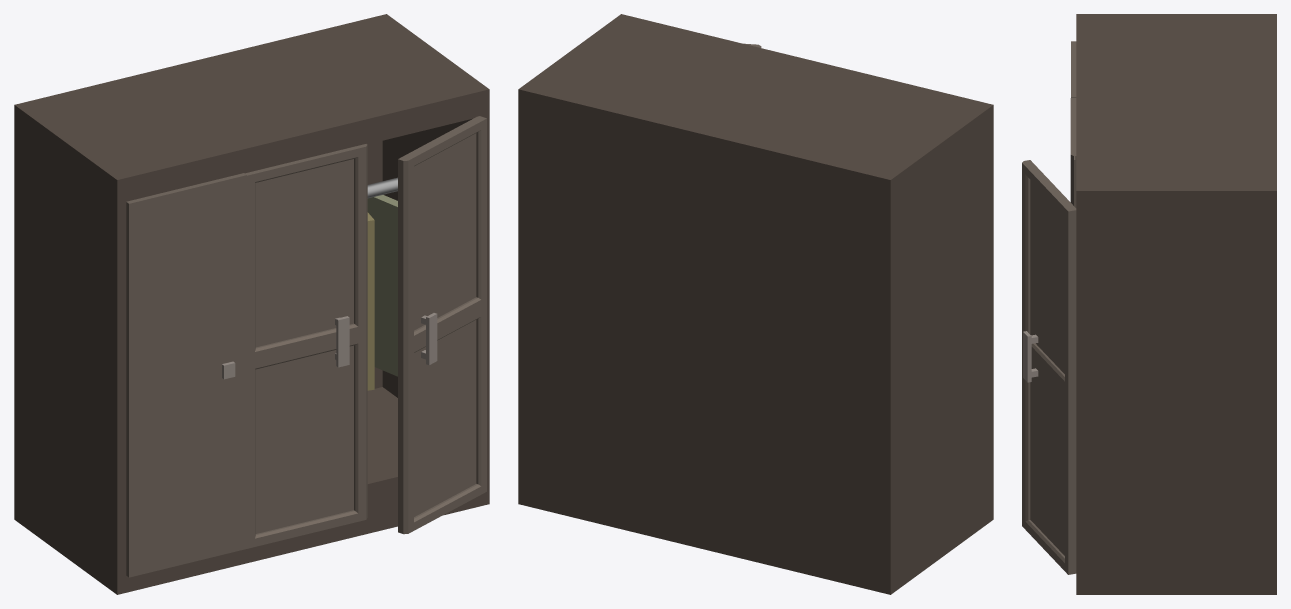
The model's file is cupboard2.fbx.
3 views of the same model, side by side, from view 1: azimuth 30°, elevation 25°; view 2: azimuth 150°, elevation 25°; view 3: azimuth 270°, elevation 25° (orthographic). The views are drawn at different scales.
Parts seen in each view (by area): view 1: cupboard2; view 2: cupboard2; view 3: cupboard2.
Part boxes in pixels (x1,y1,x2,y2): cupboard2: (14,14,489,594); cupboard2: (518,14,993,594); cupboard2: (1022,14,1276,594).
Bounding box in the file's own units: 241 × 257 × 147.
